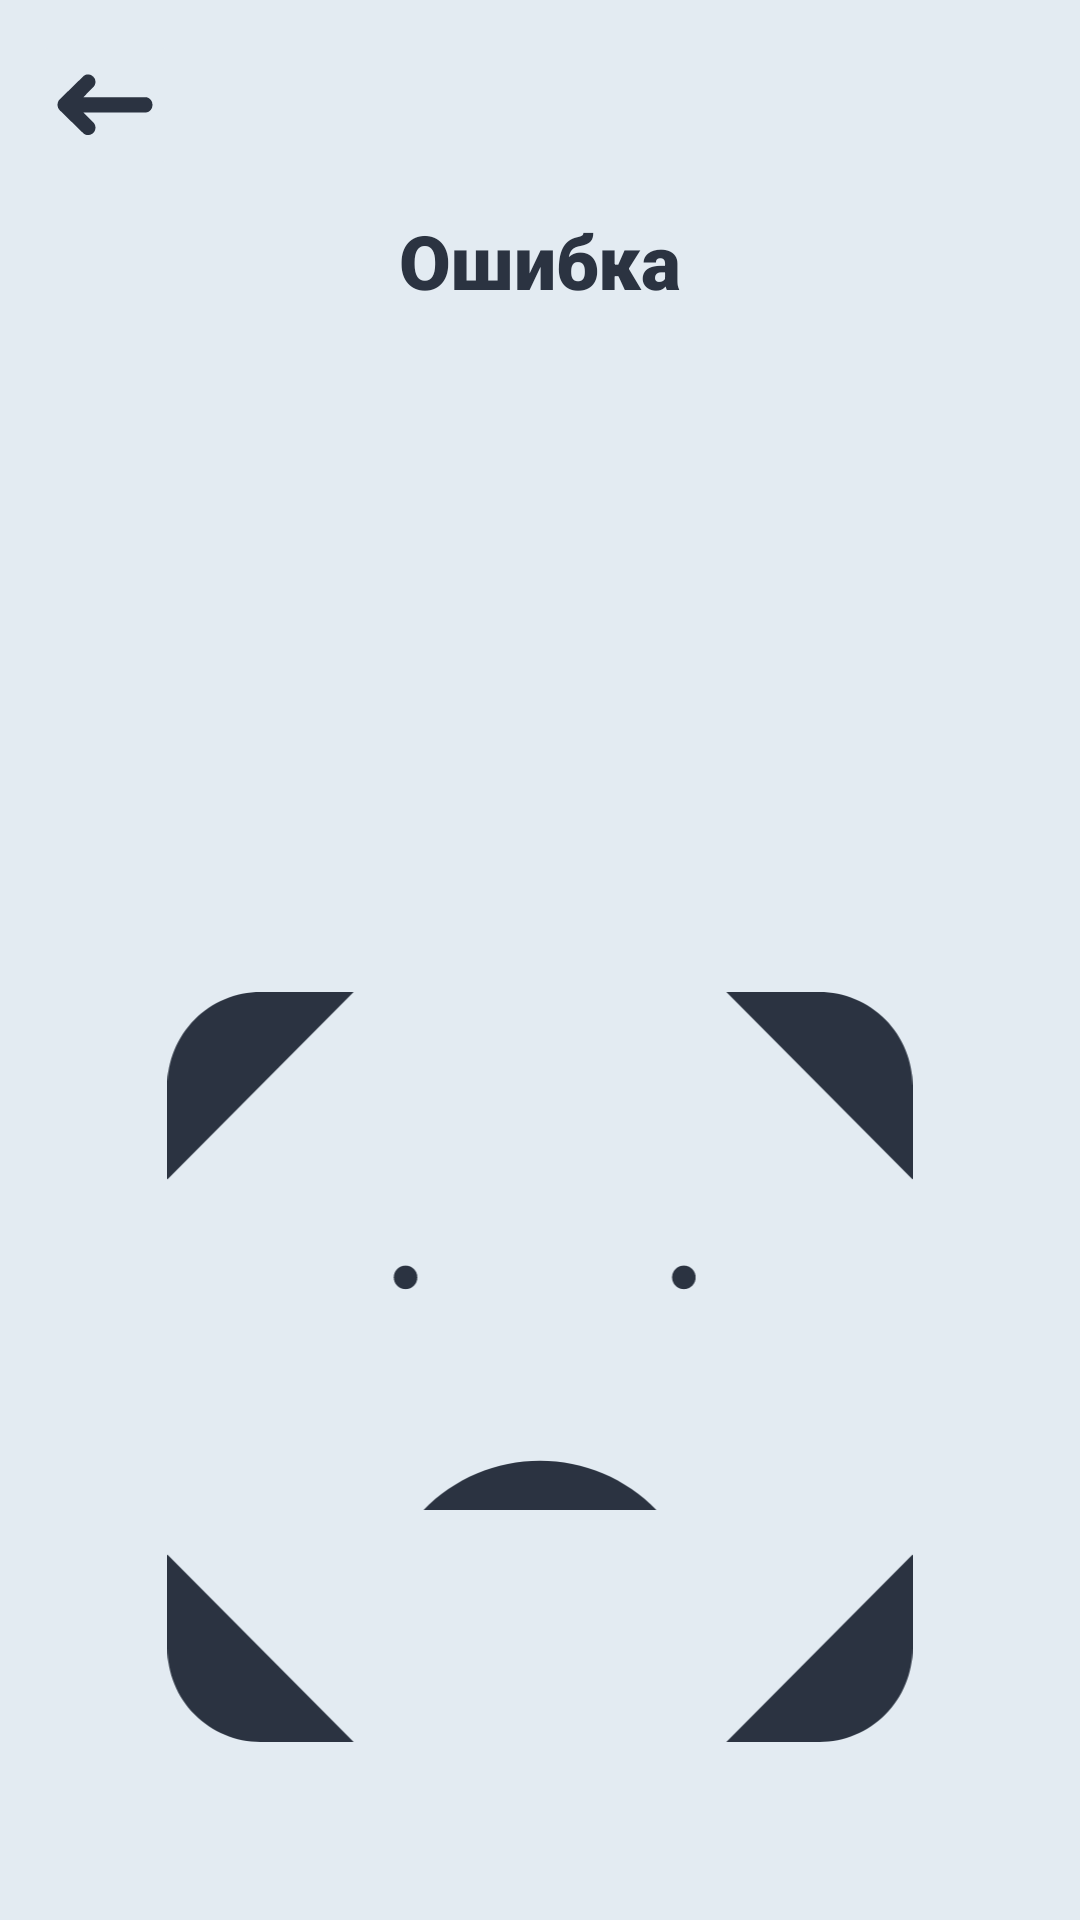

Locate icon controls on the screen. Image size 1080 × 1920, boxes as rect(x1, y1, x2, y2).
back: rect(57, 74, 153, 135)
